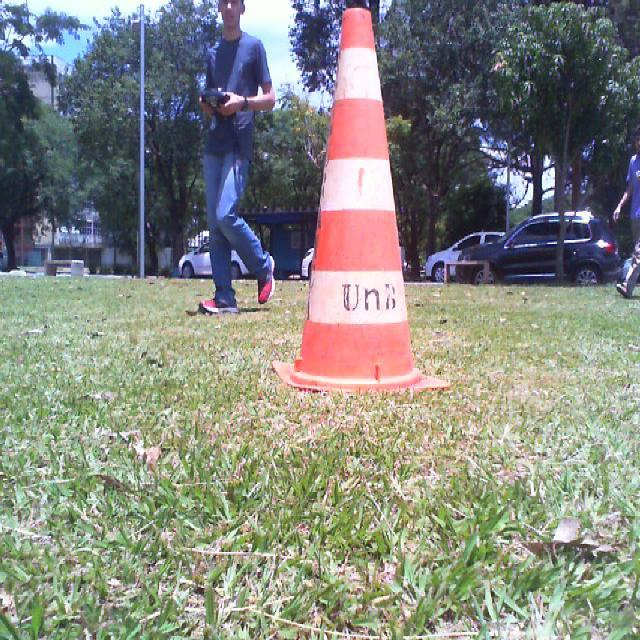Cone: (270, 9, 447, 391)
